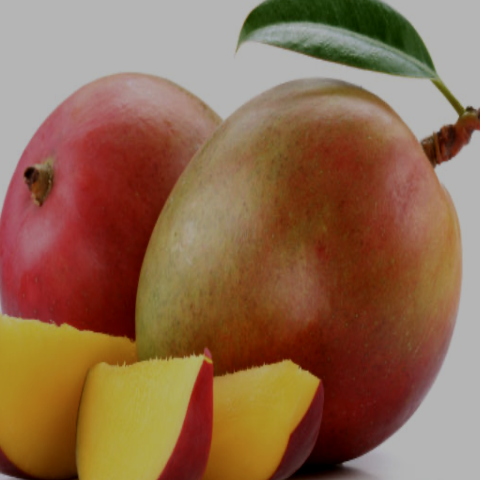mango: (116, 75, 480, 473)
